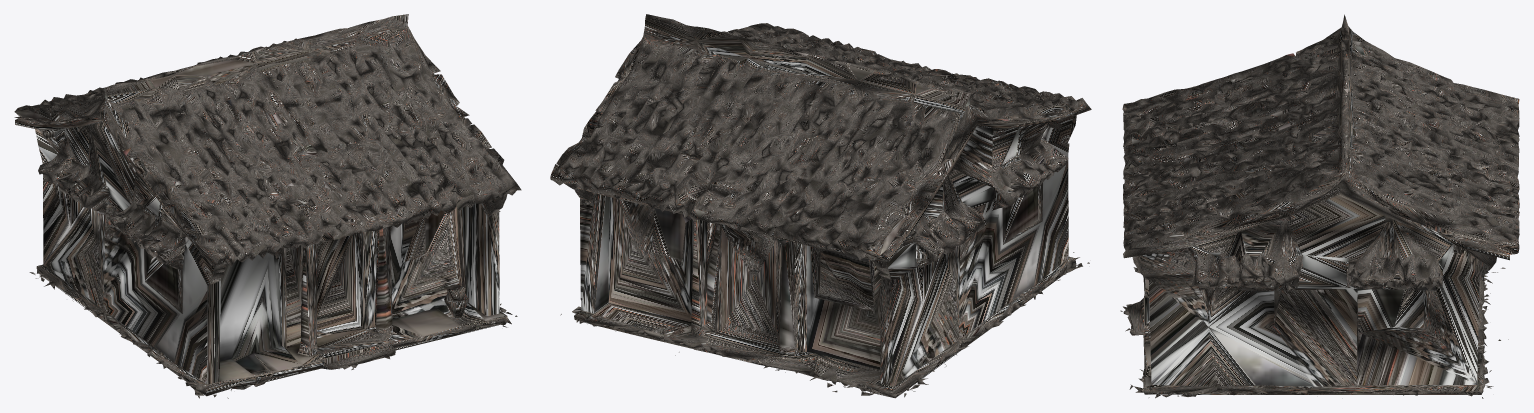
File: bq_house_tiled.lod.glb
3 renders of one model, left to right at view 1: azimuth 30°, elevation 25°; view 2: azimuth 150°, elevation 25°; view 3: azimuth 270°, elevation 25°, orthographic. The views are drawn at different scales.
Bounding box in the file's own units: 1.96 × 1.29 × 1.99.
1 material, 1 textured.
